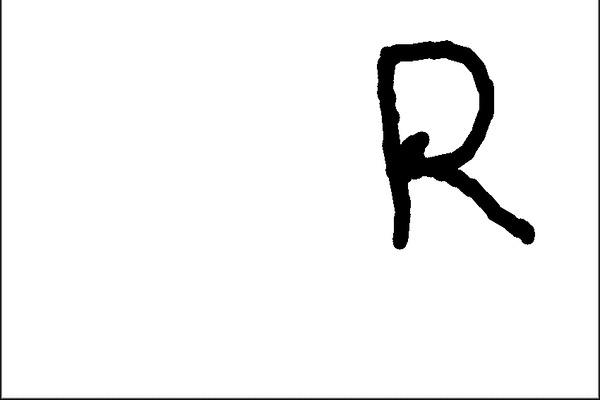R: (356, 25, 547, 264)
